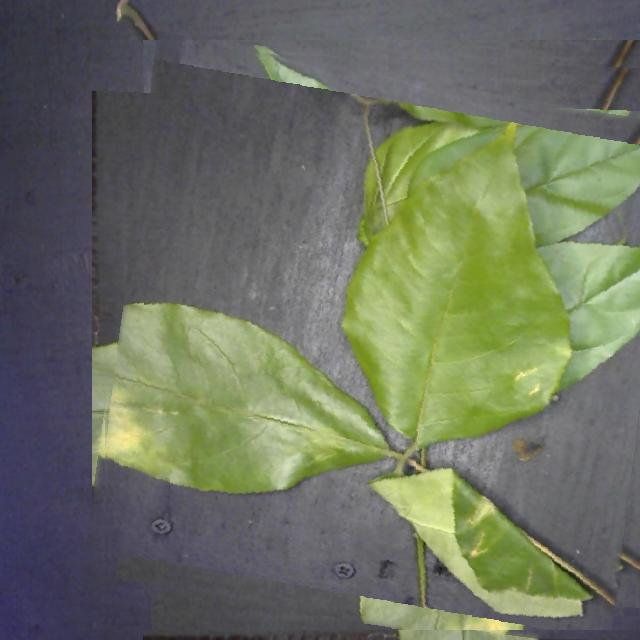biodegradable: (99, 48, 640, 630)
